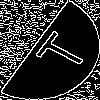T: (24, 25, 92, 76)
